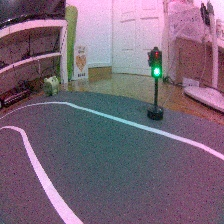green: (145, 45, 168, 122)
